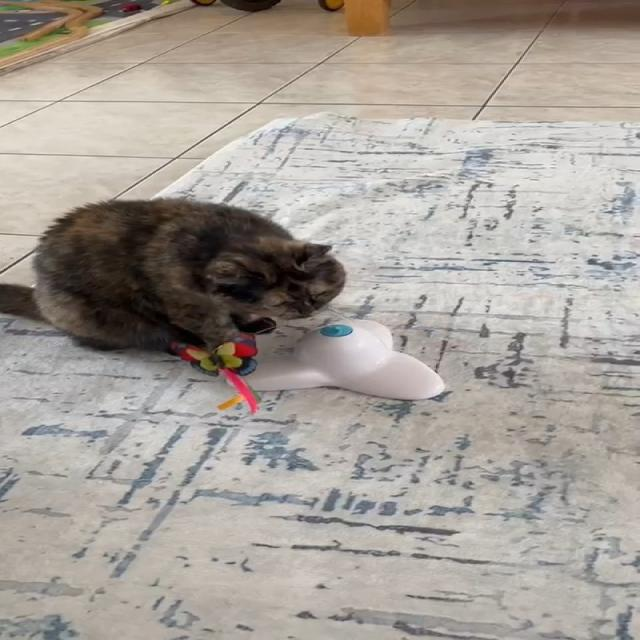authorized: (0, 197, 347, 355)
